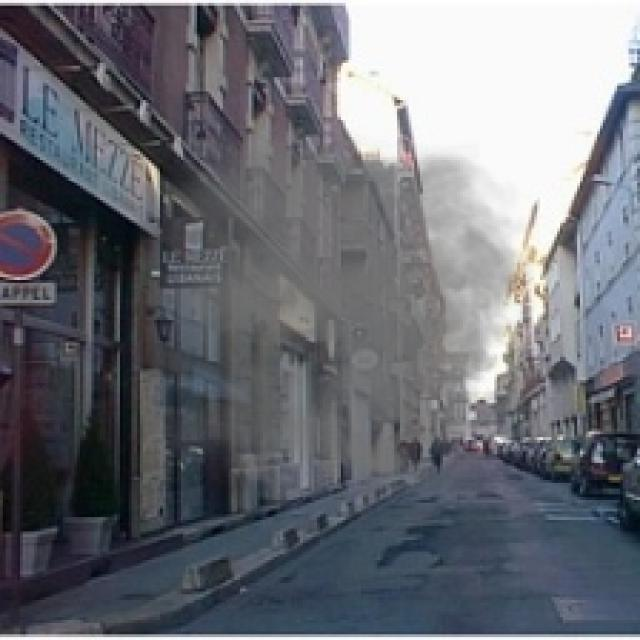Smoke: (140, 132, 546, 497)
